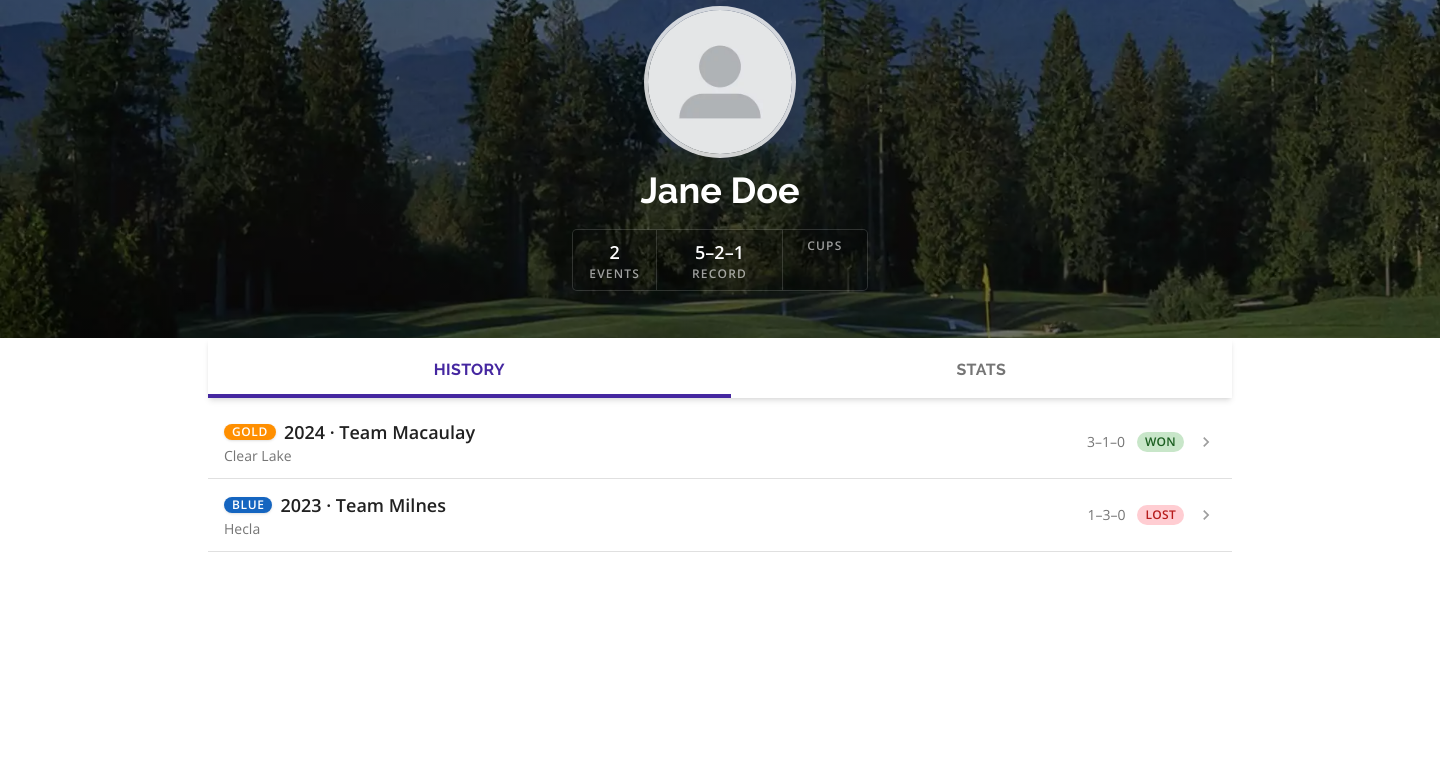
it: PlayerView stats tab › leaves out pairings played only once — one match is a coin toss, not a record
This screenshot has width=1440, height=772.
Click the button "Stats" at coordinates (981, 368), box [731,338,1232,398]
(page scrolled)
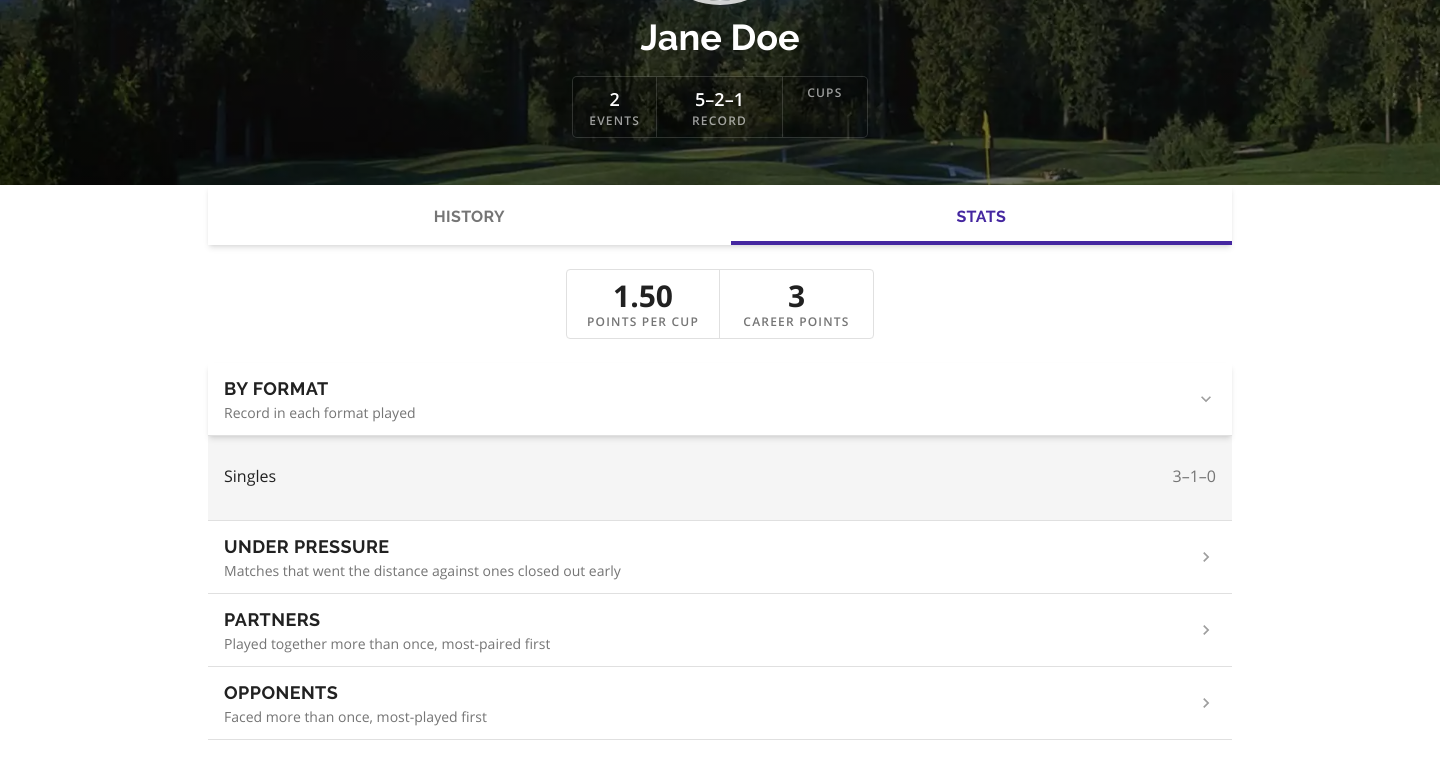
// Sections are folded, so open Partners before reading it.
Click the button "Partners Played together more than once, most-paired first" at coordinates (272, 620), box [208,594,1232,666]
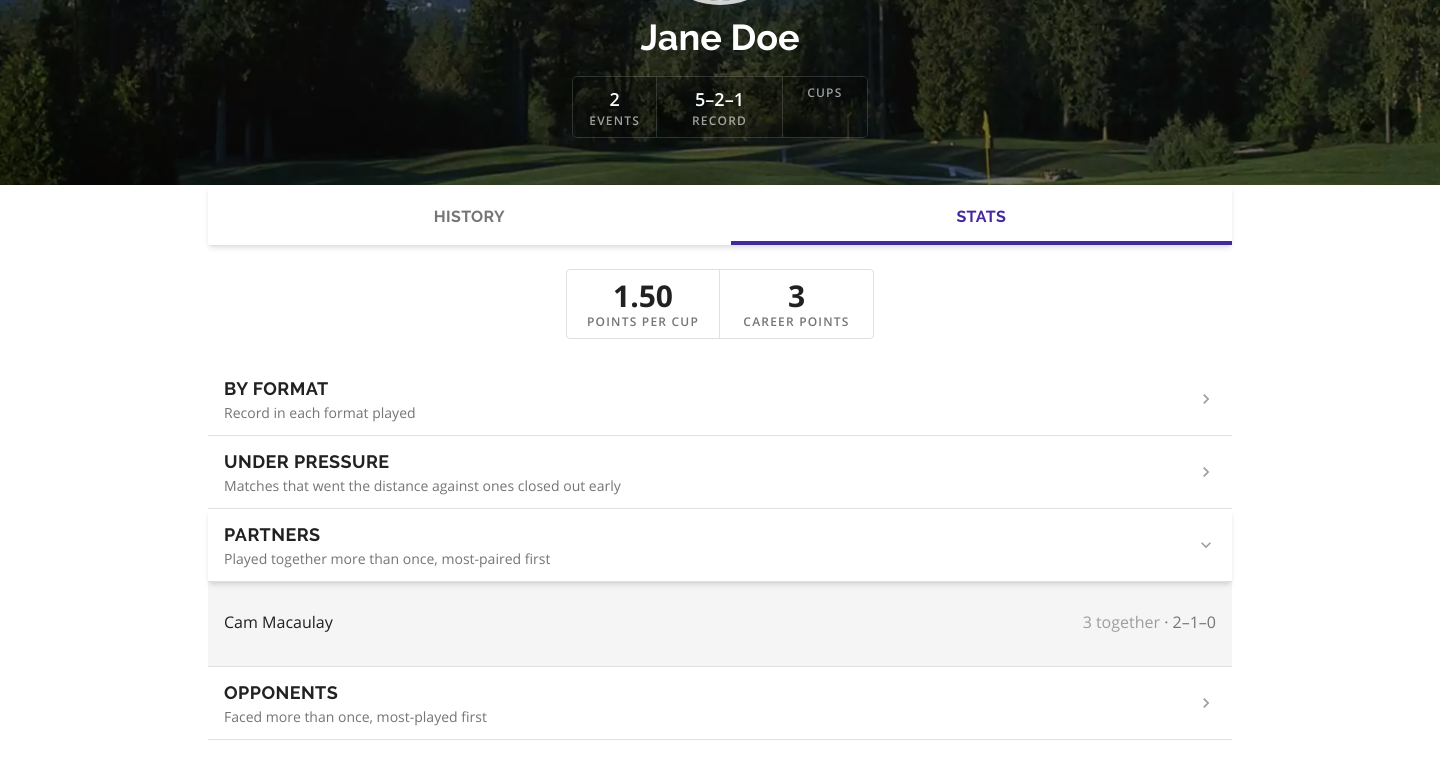
Check: the text "Cam Macaulay" is shown, box [224,610,333,634]
